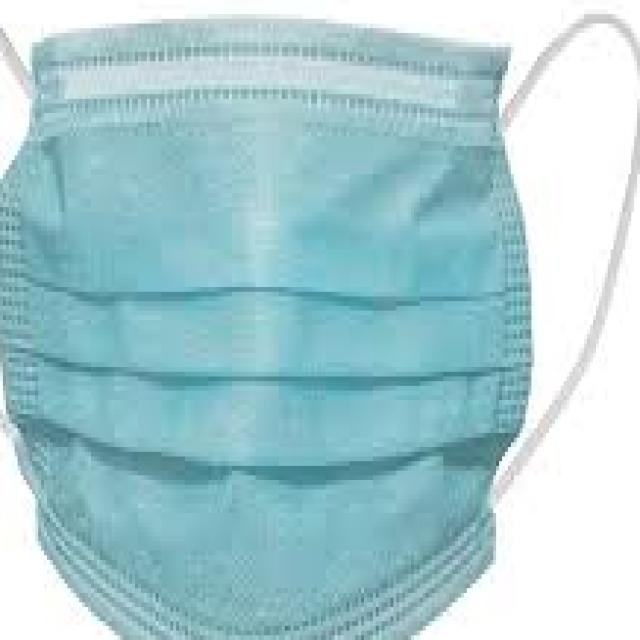organic: (19, 25, 585, 617)
